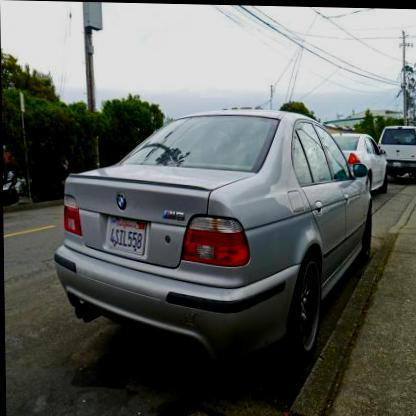License_Plate: (108, 214, 149, 257), (393, 162, 401, 167)
